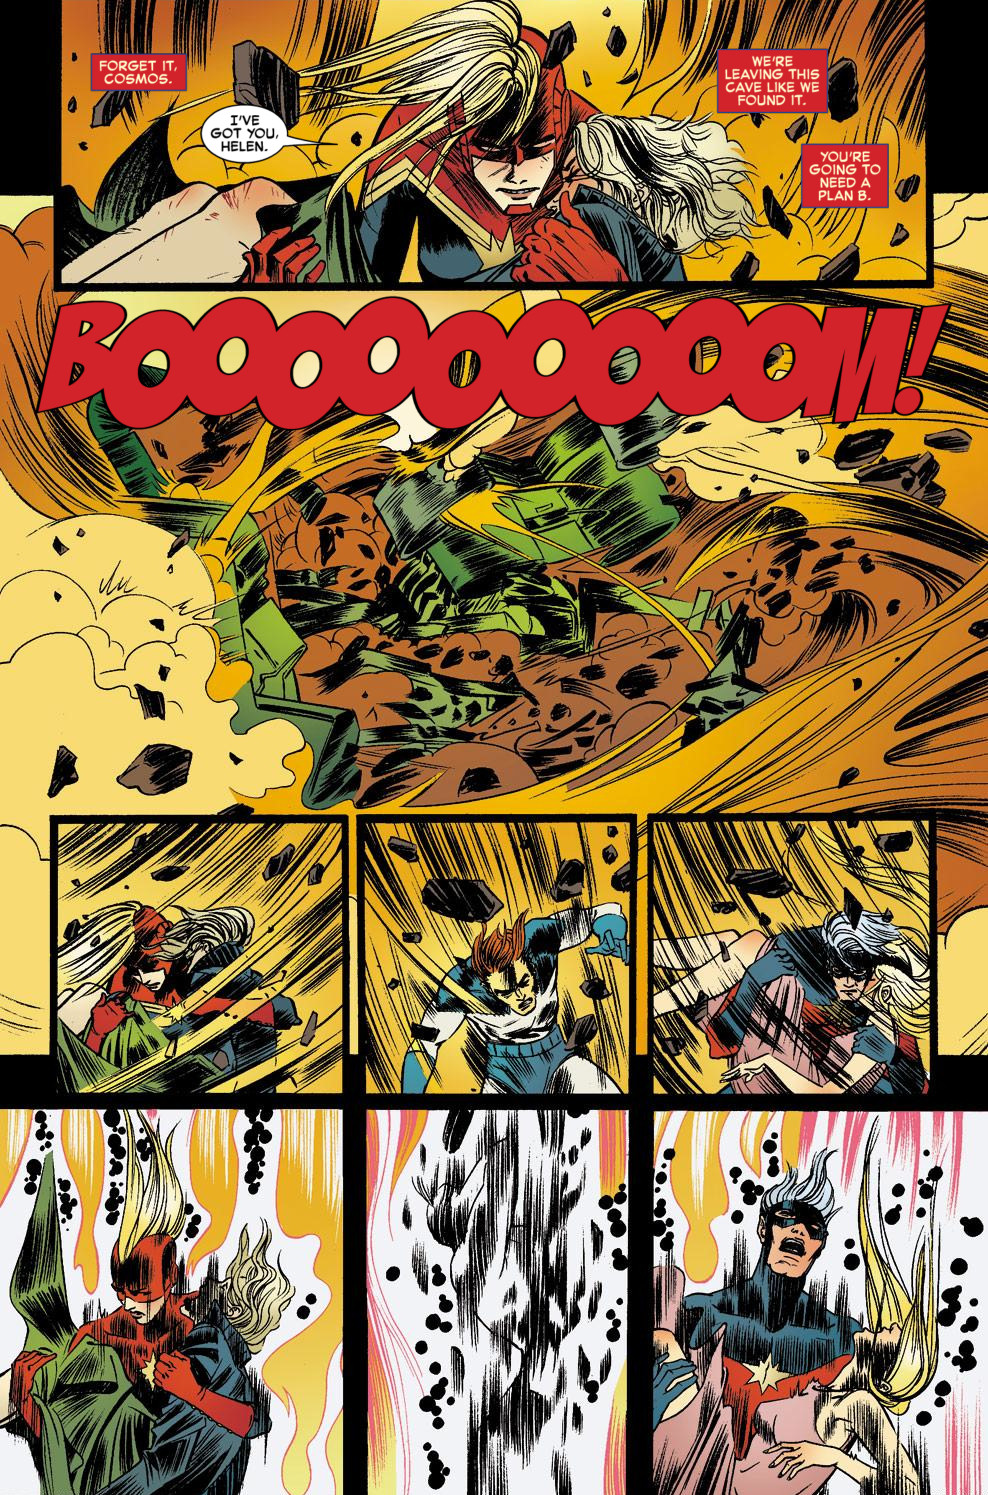Baloon: (715, 45, 829, 120), (194, 106, 322, 161), (797, 146, 892, 213), (92, 52, 185, 93)
Vignetta: (4, 189, 987, 1057), (54, 1, 933, 290), (1, 1106, 345, 1495), (647, 1109, 980, 1495), (359, 1109, 623, 1495), (651, 815, 933, 1109), (54, 815, 347, 1095), (363, 813, 631, 1097)
